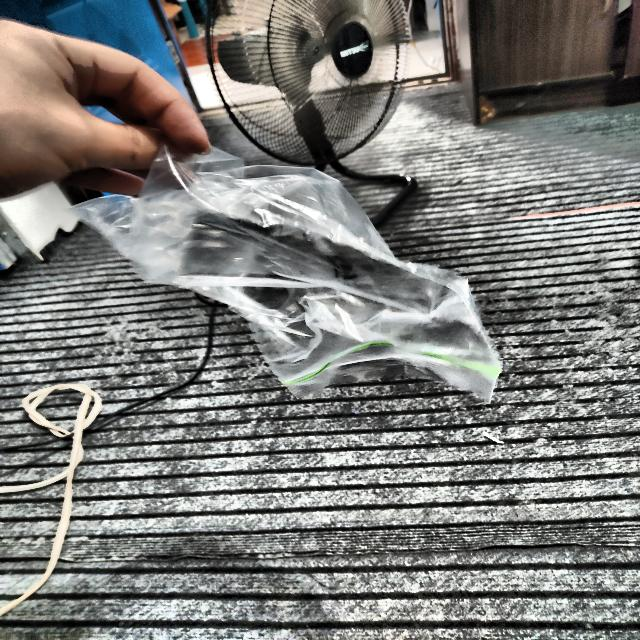plastic bag: (72, 148, 500, 399)
